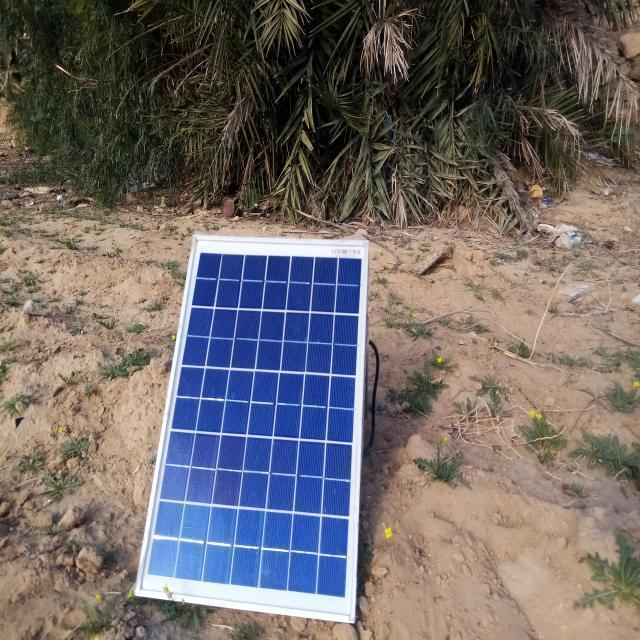Normal Solar Panel: (135, 236, 367, 622)
